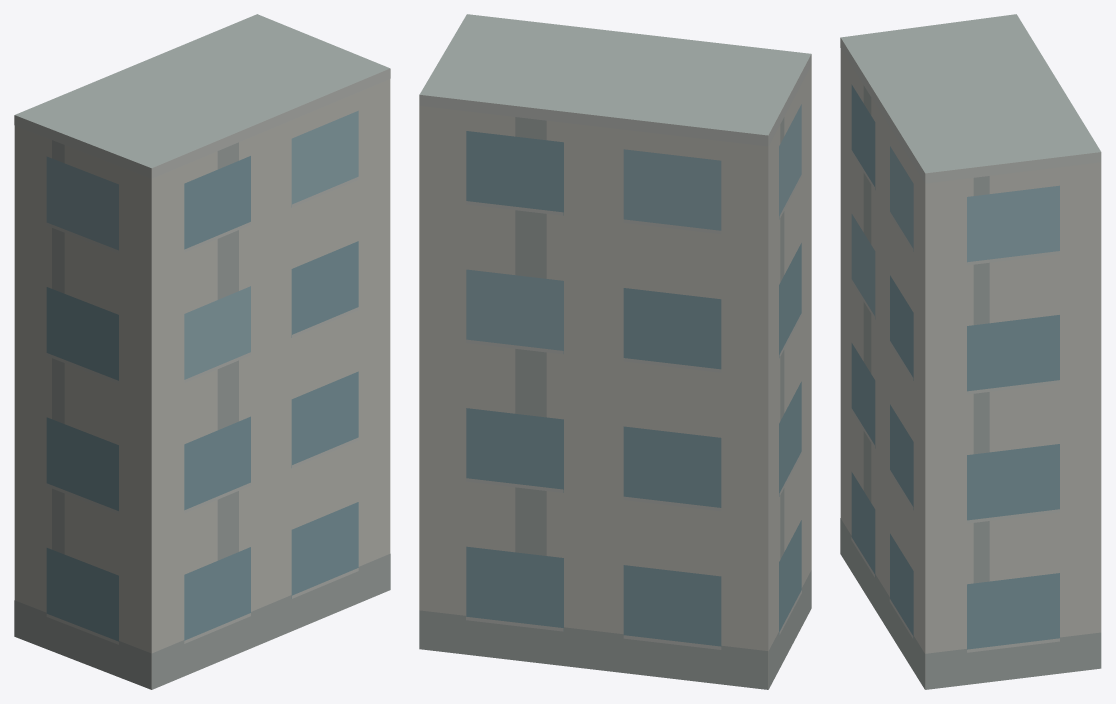
The model's file is survey-upis-32763980.glb.
3 views of the same model, side by side, from view 1: azimuth 30°, elevation 25°; view 2: azimuth 150°, elevation 25°; view 3: azimuth 270°, elevation 25° (orthographic). The views are drawn at different scales.
Parts seen in each view (by area): view 1: survey-upis-32763980.tmp; view 2: survey-upis-32763980.tmp; view 3: survey-upis-32763980.tmp.
Boxes of the visible parts, box(x1,y1,x2,y2) form: survey-upis-32763980.tmp: box(14, 14, 390, 689); survey-upis-32763980.tmp: box(419, 14, 811, 689); survey-upis-32763980.tmp: box(840, 14, 1101, 689).
Size of the model in its own units: 8.08 by 12.2 by 5.59.
